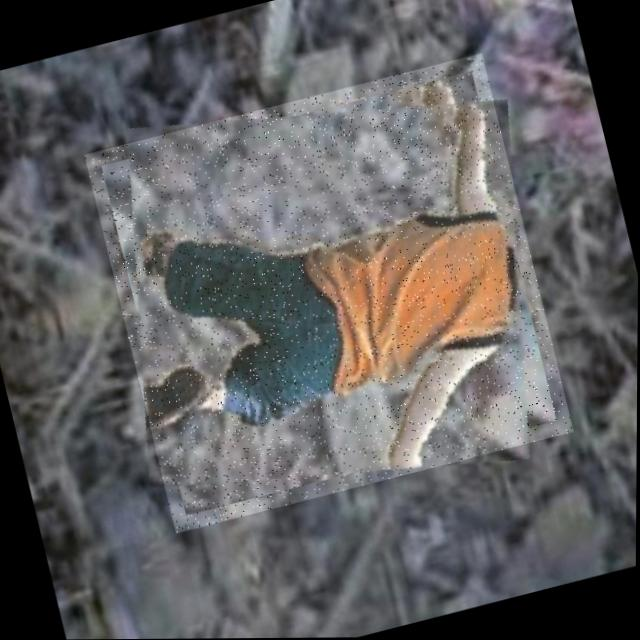Person in Rubble: (81, 53, 575, 534)
